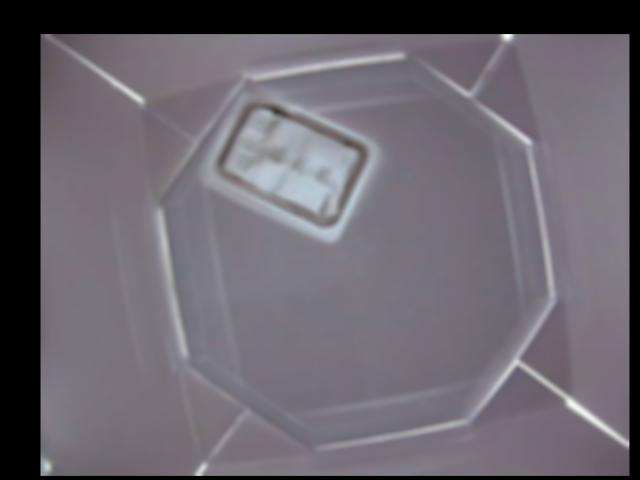Medicine: (203, 84, 378, 243)
